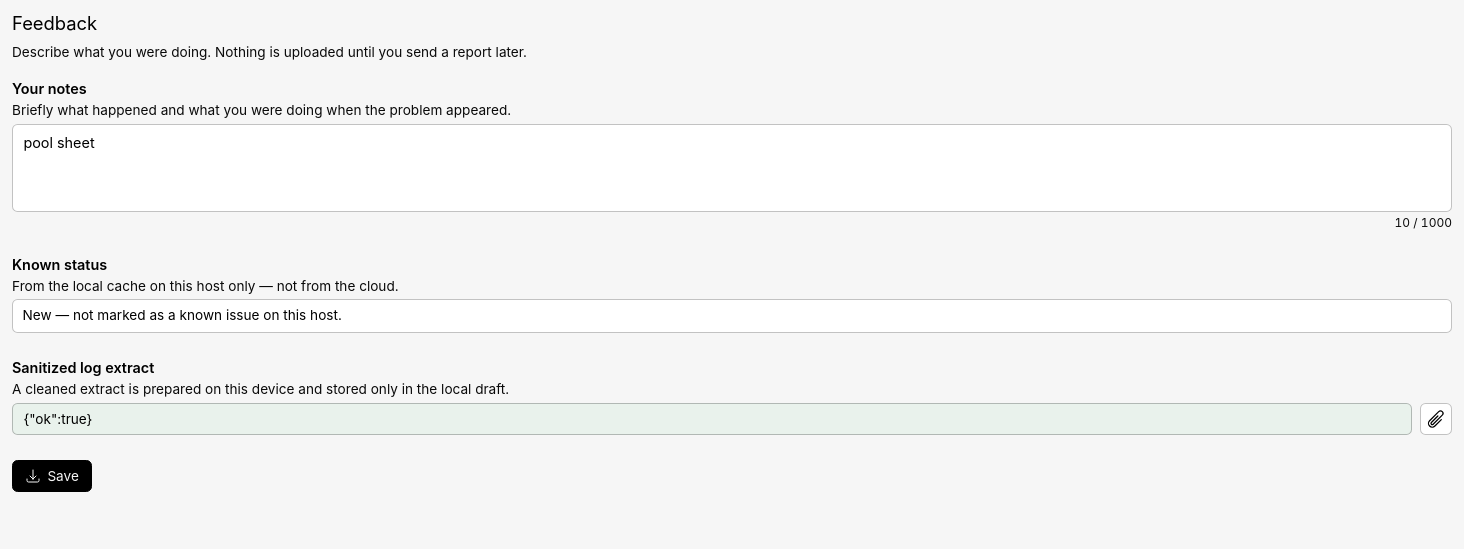
it: FeedbackForm › shows prepare error when draft save fails
Click the button with test id "feedback-form-prepare" at [52, 476], box [12,460,92,492]
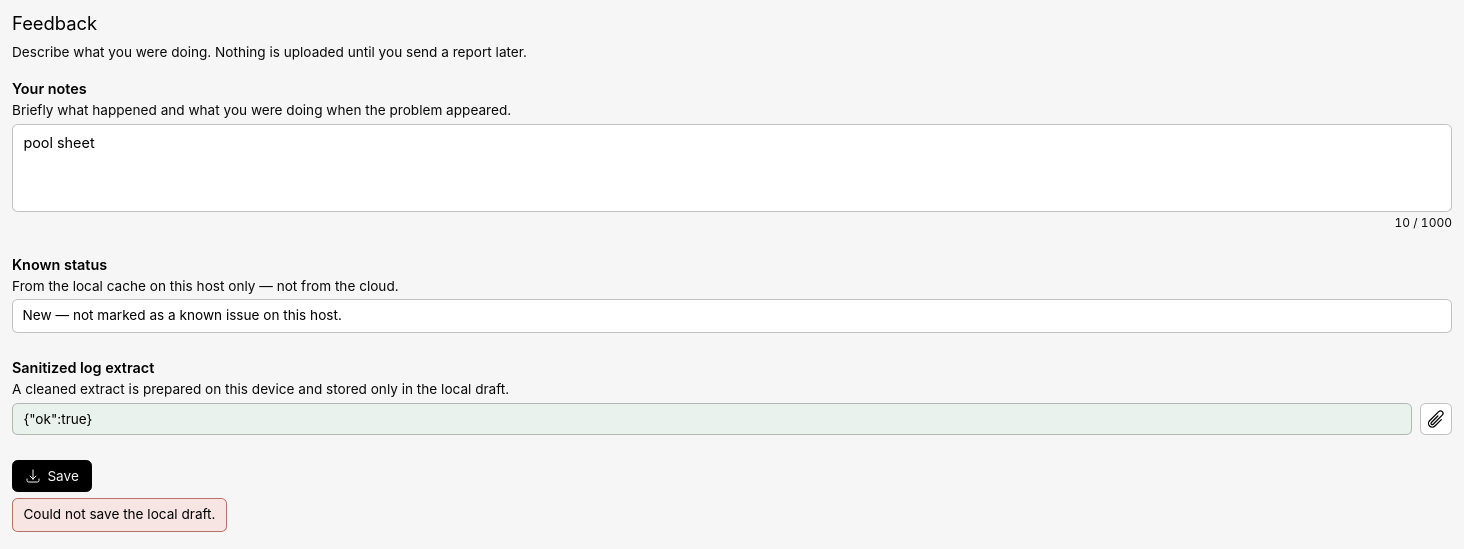
Check: the message with test id "feedback-form-prepare-error" reads "Could not save the local draft.", box [23,506,216,522]
